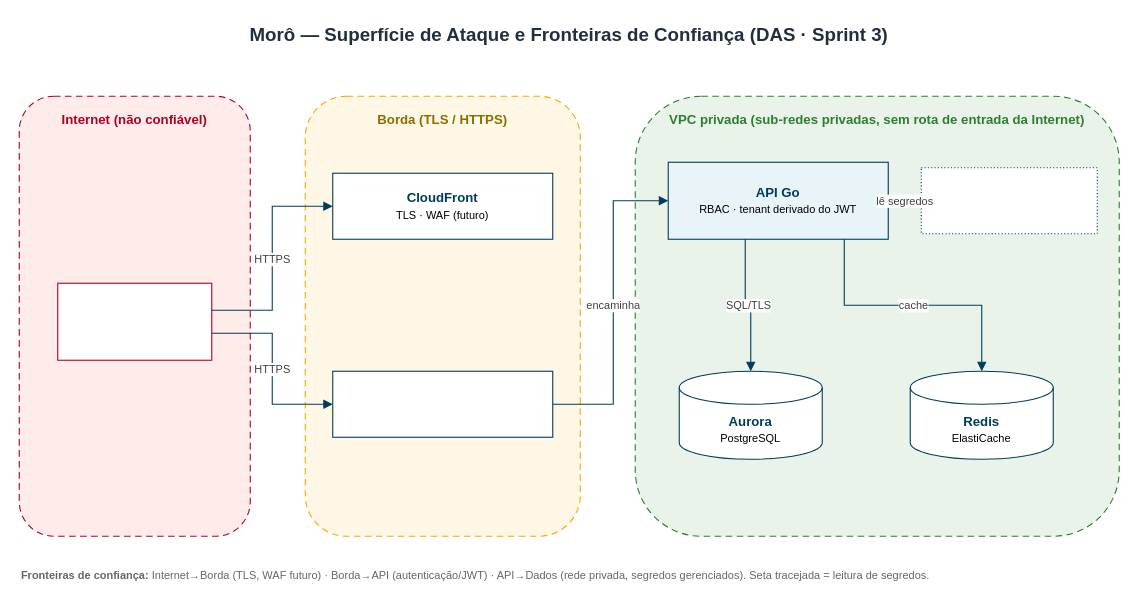
The diagram is 1139 pixels wide and 609 high, and some of its shapes have lost their labels. Each missing label, with the box of its shape:
ALB HTTPS · health checks: (332, 370, 553, 437)
Secrets Manager segredos JWT / DB: (920, 167, 1097, 234)
Usuários / Atacantes tráfego não confiável: (57, 282, 212, 360)
